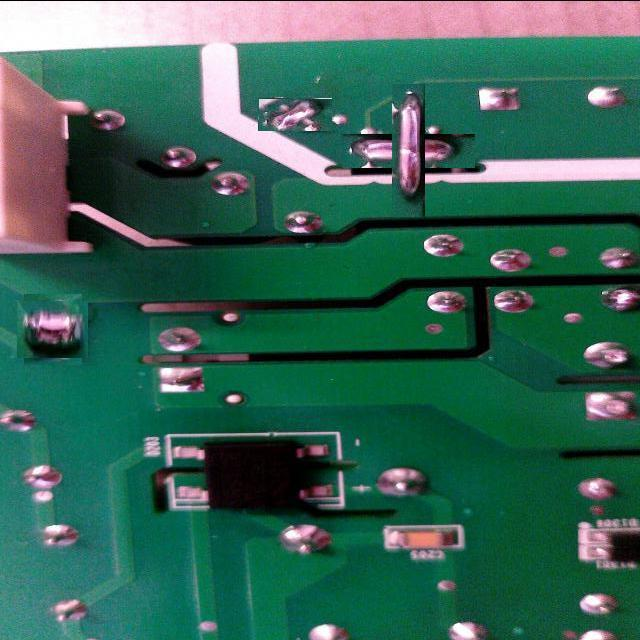Short_circuit: (367, 109, 450, 193), (21, 297, 85, 362), (258, 98, 332, 132)
